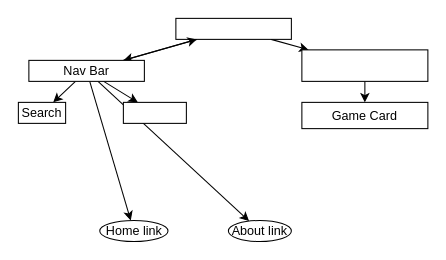
This 446x260 diagram has some shape labels left out. The centre of each missing label's shape, as x and y in pixels:
"App" belongs at pixel 233 28.
"Filter" belongs at pixel 154 112.
"Game Container" belongs at pixel 364 65.
